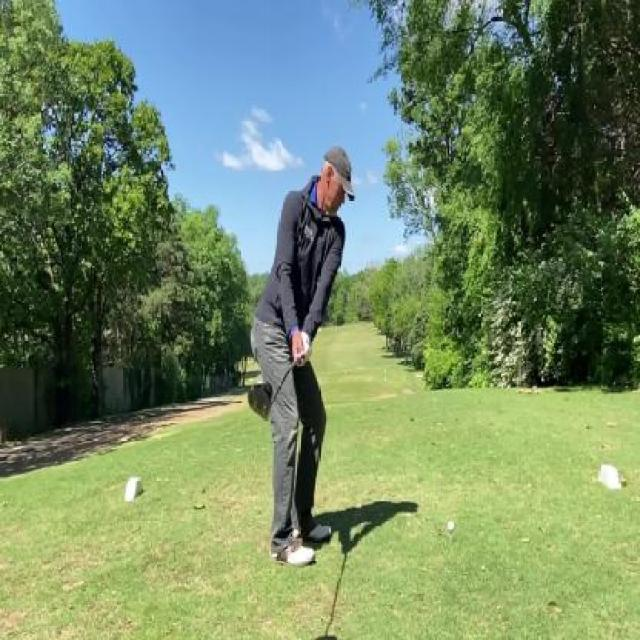club head: (247, 378, 276, 422)
